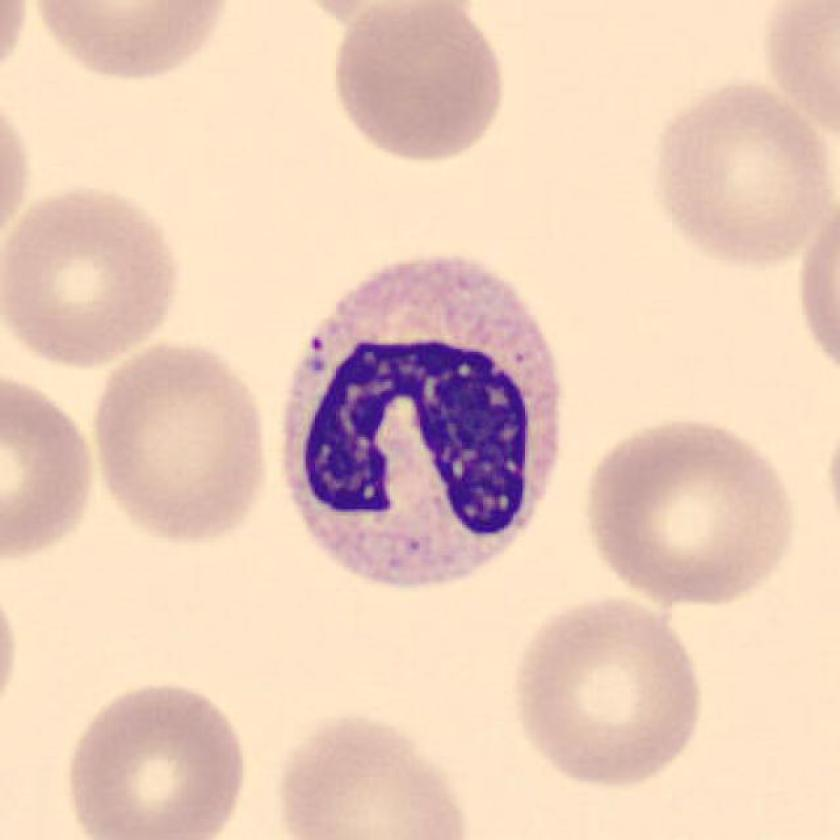neutrophil: (283, 258, 560, 588)
